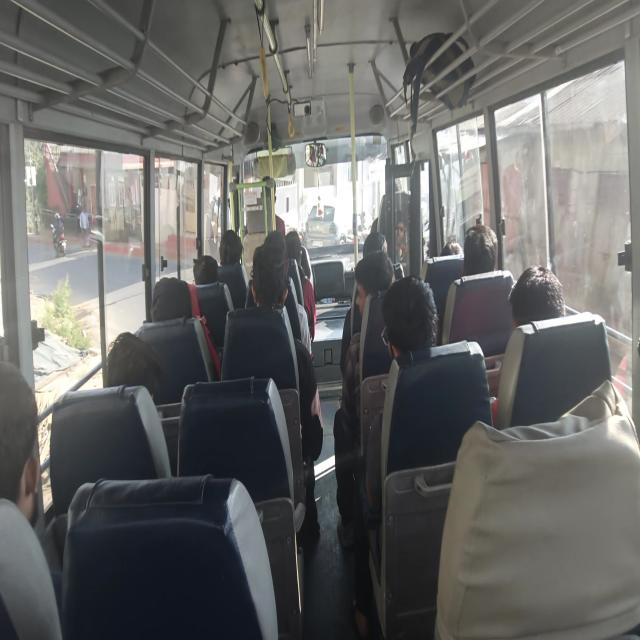person: (353, 274, 439, 636), (245, 241, 323, 538), (334, 250, 396, 548), (0, 360, 62, 638), (488, 264, 566, 425), (104, 331, 178, 475), (340, 249, 395, 378), (441, 224, 499, 344), (104, 331, 170, 404), (508, 264, 566, 330), (284, 230, 317, 342), (462, 224, 498, 276), (218, 229, 248, 288), (192, 254, 218, 285), (393, 211, 408, 262), (362, 231, 387, 258), (50, 212, 64, 245), (440, 240, 463, 256)
